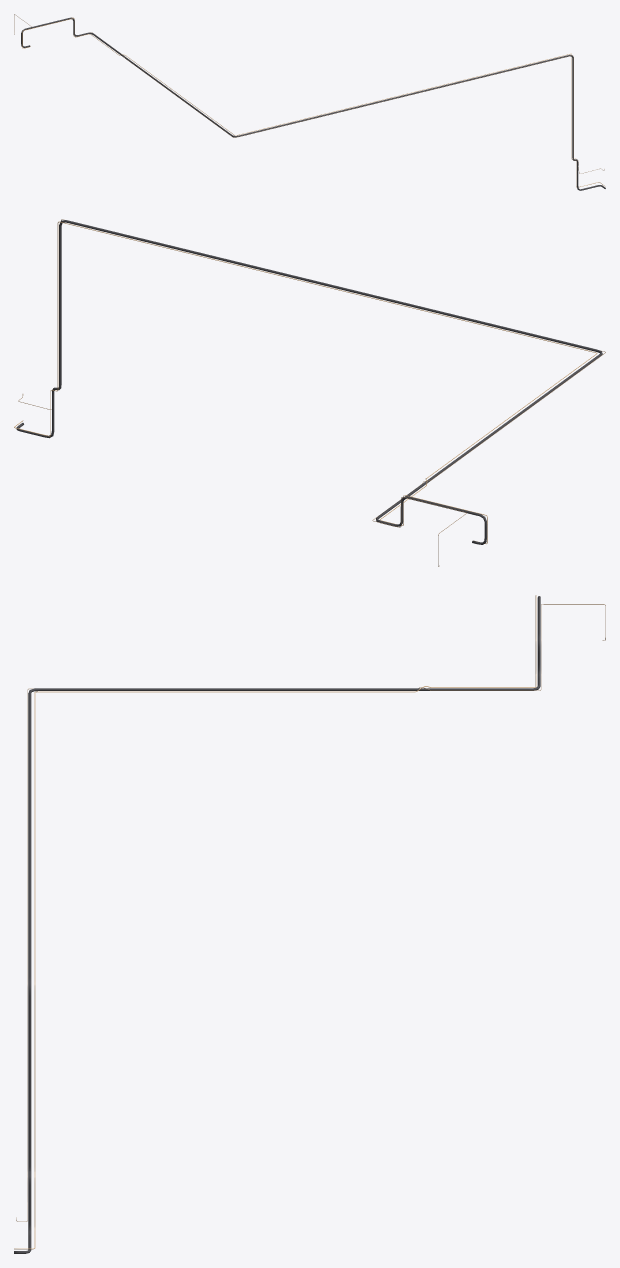
The model's file is pipes_hvac__hvac-heatpump_attic_rd18.glb.
The picture shows the model from 3 angles, top to bottom: view 1: azimuth 30°, elevation 25°; view 2: azimuth 150°, elevation 25°; view 3: azimuth 270°, elevation 25°; orthographic projection. The views are drawn at different scales.
Parts seen in each view (by area): view 1: pipe_hvac_lineset_suction_hp_rd18ay36, pipe_hvac_lineset_liquid_hp_rd18ay36, pipe_hvac_lineset_tstat_cable_hp_rd18ay36; view 2: pipe_hvac_lineset_suction_hp_rd18ay36, pipe_hvac_lineset_liquid_hp_rd18ay36, pipe_hvac_lineset_tstat_cable_hp_rd18ay36; view 3: pipe_hvac_lineset_suction_hp_rd18ay36, pipe_hvac_lineset_liquid_hp_rd18ay36, pipe_hvac_lineset_tstat_cable_hp_rd18ay36.
Boxes of the visible parts, bbox=[...] form: pipe_hvac_lineset_suction_hp_rd18ay36: bbox=[21, 17, 605, 190]; pipe_hvac_lineset_liquid_hp_rd18ay36: bbox=[22, 18, 605, 187]; pipe_hvac_lineset_tstat_cable_hp_rd18ay36: bbox=[14, 14, 604, 173]; pipe_hvac_lineset_suction_hp_rd18ay36: bbox=[16, 220, 602, 544]; pipe_hvac_lineset_liquid_hp_rd18ay36: bbox=[14, 221, 597, 543]; pipe_hvac_lineset_tstat_cable_hp_rd18ay36: bbox=[18, 219, 605, 566]; pipe_hvac_lineset_suction_hp_rd18ay36: bbox=[14, 596, 540, 1253]; pipe_hvac_lineset_liquid_hp_rd18ay36: bbox=[14, 595, 536, 1249]; pipe_hvac_lineset_tstat_cable_hp_rd18ay36: bbox=[16, 604, 605, 1221].
Size of the model in its own units: 13.22 by 4.56 by 8.7.
